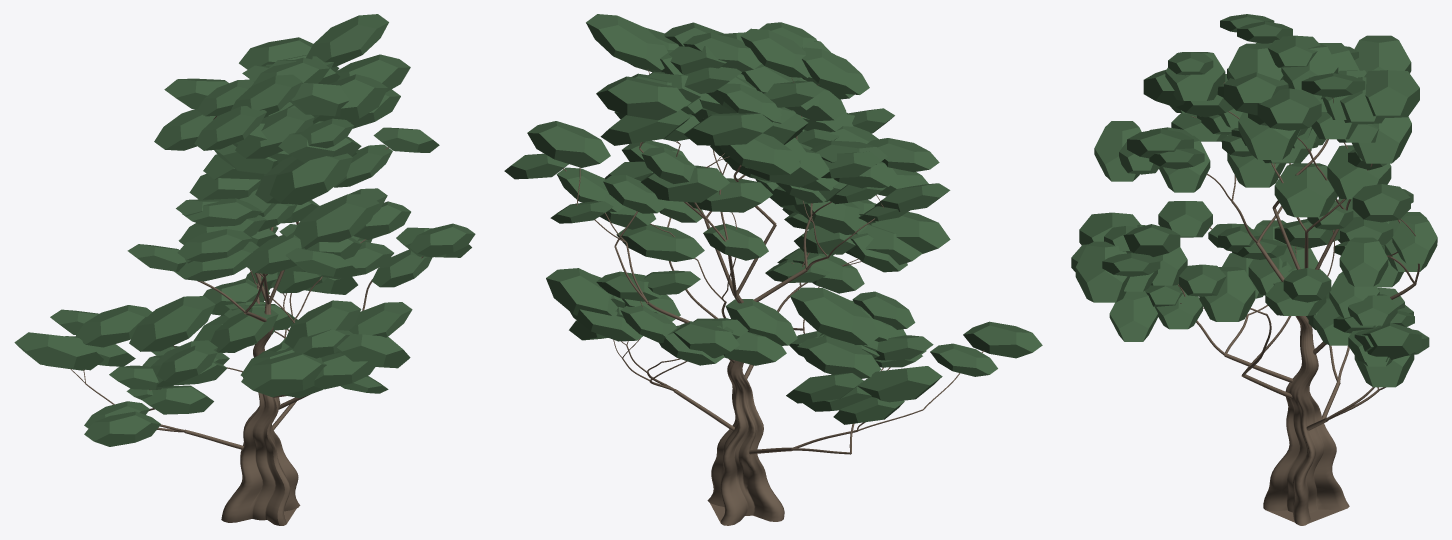
File: tree_2026-04-26T09-26-32-604Z.glb
3 renders of one model, left to right at view 1: azimuth 30°, elevation 25°; view 2: azimuth 150°, elevation 25°; view 3: azimuth 270°, elevation 25°, orthographic. The views are drawn at different scales.
Parts seen in each view (by area): view 1: rainforest_giant; view 2: rainforest_giant; view 3: rainforest_giant.
Part boxes in pixels (bbox=[...]): rainforest_giant: bbox=[14, 14, 475, 525]; rainforest_giant: bbox=[504, 14, 1042, 525]; rainforest_giant: bbox=[1071, 14, 1437, 525].
Size of the model in its own units: 156 by 157 by 107.
